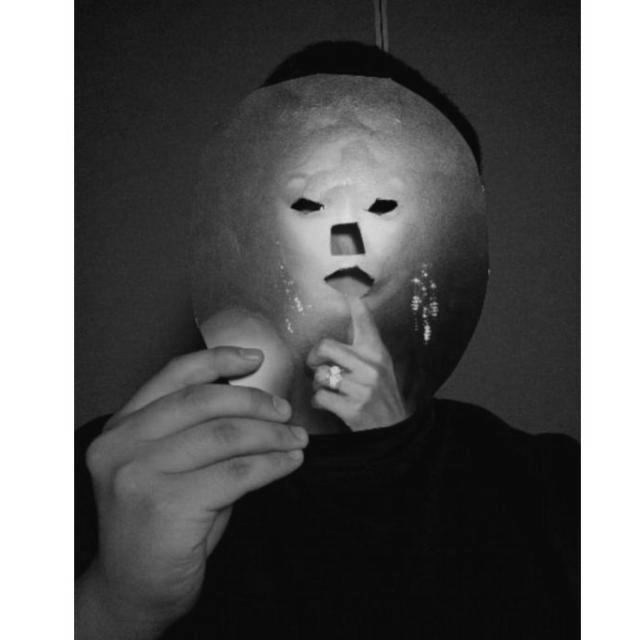fake: (185, 75, 494, 435)
